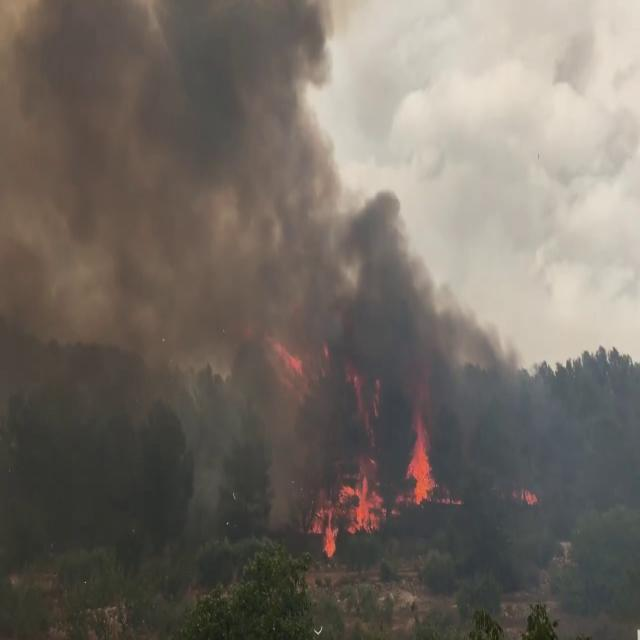Fire: (309, 460, 386, 556), (404, 412, 438, 510)
Smoke: (1, 1, 510, 494)
